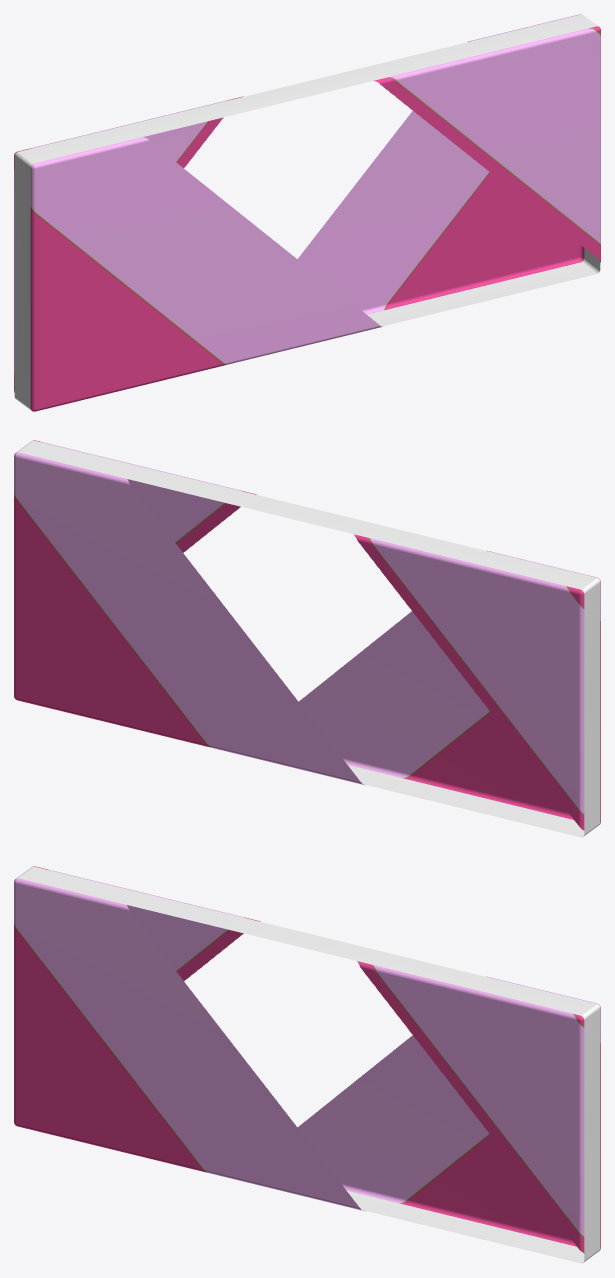
The model's file is DoorBlock.fbx.
3 views of the same model, one above another, from view 1: azimuth 30°, elevation 25°; view 2: azimuth 150°, elevation 25°; view 3: azimuth 330°, elevation 25° (orthographic).
Visible parts, largest first — view 1: ENV_S04_DoorBlockLarge_MO_1, ENV_S04_DoorBlockLarge_MO_0; view 2: ENV_S04_DoorBlockLarge_MO_1, ENV_S04_DoorBlockLarge_MO_0; view 3: ENV_S04_DoorBlockLarge_MO_1, ENV_S04_DoorBlockLarge_MO_0.
Part boxes in pixels (left/top/right/bottom): ENV_S04_DoorBlockLarge_MO_1: left=14, top=14, right=600, bottom=411; ENV_S04_DoorBlockLarge_MO_0: left=14, top=14, right=600, bottom=409; ENV_S04_DoorBlockLarge_MO_1: left=14, top=440, right=600, bottom=830; ENV_S04_DoorBlockLarge_MO_0: left=17, top=440, right=600, bottom=837; ENV_S04_DoorBlockLarge_MO_1: left=14, top=866, right=600, bottom=1253; ENV_S04_DoorBlockLarge_MO_0: left=17, top=866, right=600, bottom=1263.
Bounding box in the file's own units: 36.12 × 15.01 × 2.22.
